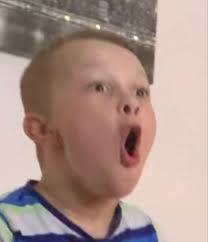poggers: (20, 34, 158, 198)
